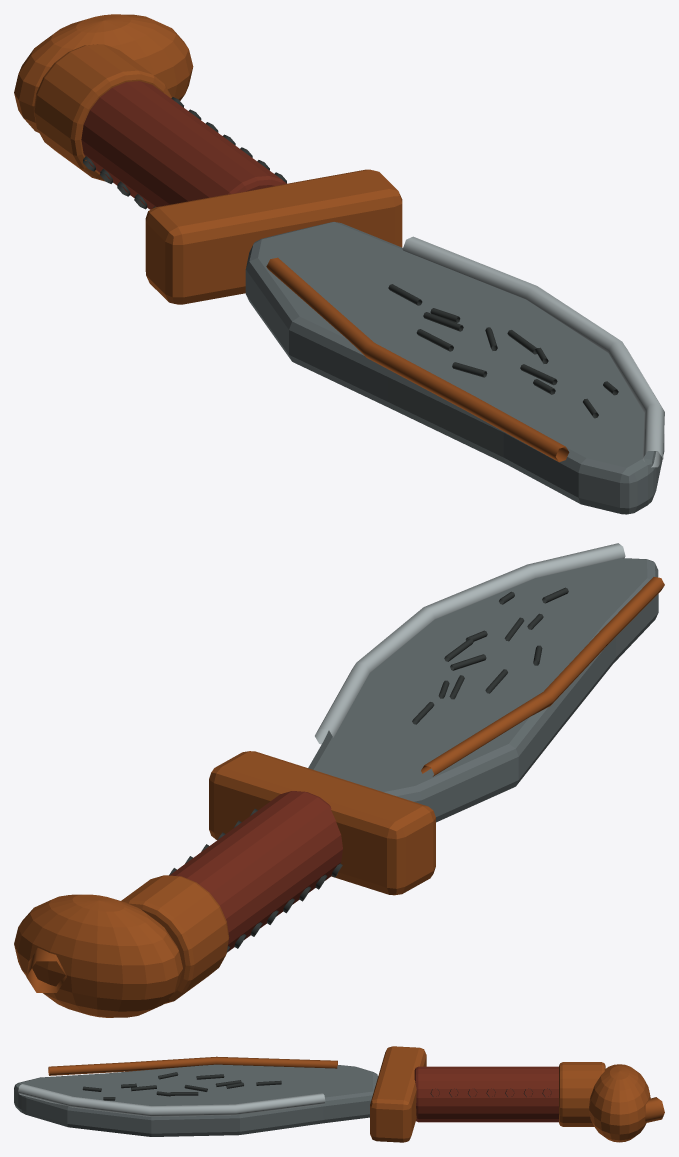
Rendered from kopis_heavy_LOD0.glb.
3 renders of one model, top to bottom at view 1: azimuth 30°, elevation 25°; view 2: azimuth 150°, elevation 25°; view 3: azimuth 270°, elevation 25°, orthographic. The views are drawn at different scales.
Parts seen in each view (by area): view 1: KopisForwardSweptBlade, KopisGuard, KopisGripCore, KopisHorsePommel, KopisPommelNeck, KopisPolishedEdge, KopisBronzeSpine; view 2: KopisForwardSweptBlade, KopisHorsePommel, KopisGuard, KopisGripCore, KopisPommelNeck, KopisPolishedEdge, KopisBronzeSpine, KopisPommelHook; view 3: KopisForwardSweptBlade, KopisGripCore, KopisGuard, KopisHorsePommel, KopisPolishedEdge, KopisBronzeSpine, KopisPommelNeck, KopisPommelHook.
Boxes of the visible parts, bbox=[...] form: KopisForwardSweptBlade: bbox=[245, 222, 664, 514]; KopisGuard: bbox=[145, 169, 402, 304]; KopisGripCore: bbox=[81, 81, 286, 209]; KopisHorsePommel: bbox=[14, 14, 193, 132]; KopisPommelNeck: bbox=[34, 44, 171, 181]; KopisPolishedEdge: bbox=[402, 236, 664, 467]; KopisBronzeSpine: bbox=[266, 257, 569, 462]; KopisForwardSweptBlade: bbox=[308, 558, 658, 822]; KopisHorsePommel: bbox=[14, 894, 182, 1017]; KopisGuard: bbox=[209, 751, 435, 895]; KopisGripCore: bbox=[169, 791, 342, 951]; KopisPommelNeck: bbox=[121, 875, 229, 1003]; KopisPolishedEdge: bbox=[315, 543, 625, 744]; KopisBronzeSpine: bbox=[421, 577, 664, 776]; KopisPommelHook: bbox=[26, 948, 66, 992]; KopisForwardSweptBlade: bbox=[14, 1064, 377, 1136]; KopisGripCore: bbox=[414, 1066, 558, 1122]; KopisGuard: bbox=[370, 1046, 426, 1142]; KopisHorsePommel: bbox=[589, 1064, 650, 1142]; KopisPolishedEdge: bbox=[18, 1084, 325, 1116]; KopisBronzeSpine: bbox=[48, 1056, 337, 1075]; KopisPommelNeck: bbox=[559, 1062, 605, 1126]; KopisPommelHook: bbox=[645, 1097, 664, 1122].
Size of the model in its own units: 0.3203 by 0.152 by 1.4.
